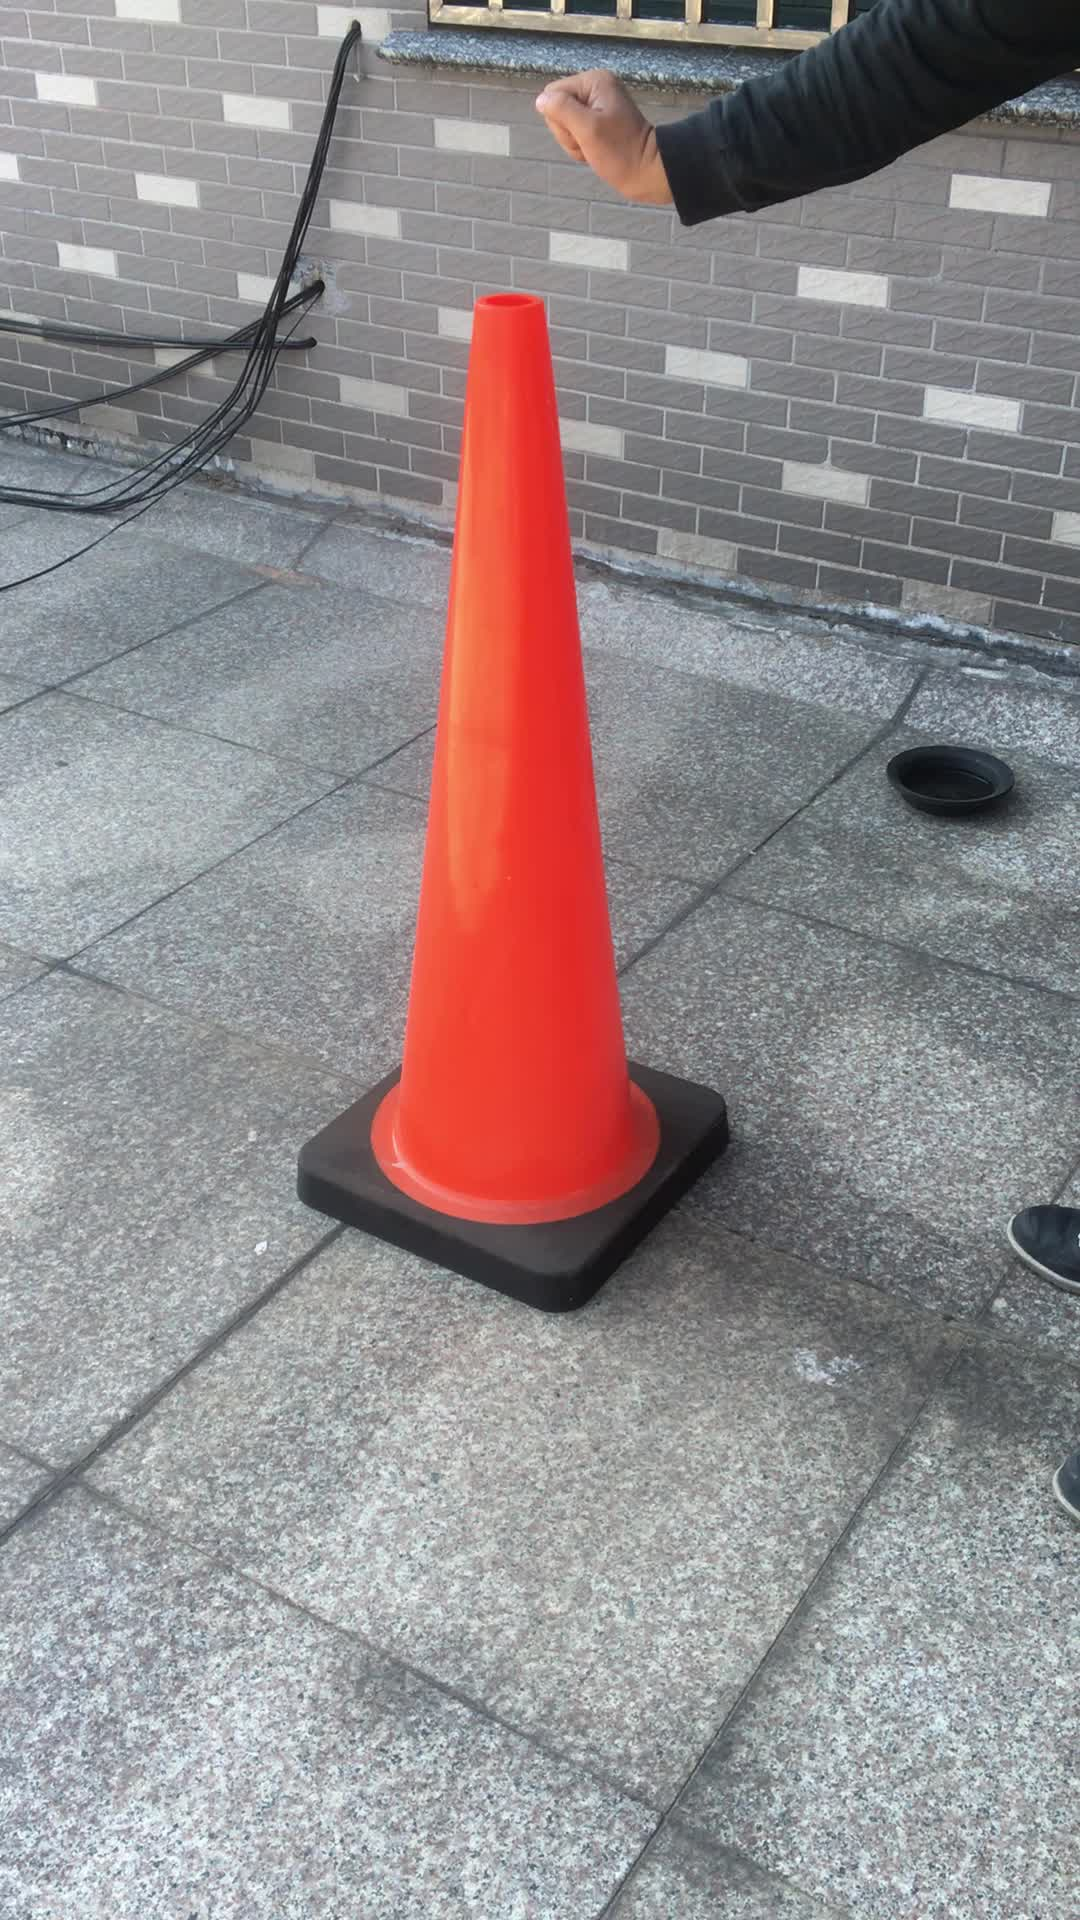cone: (291, 291, 737, 1313)
